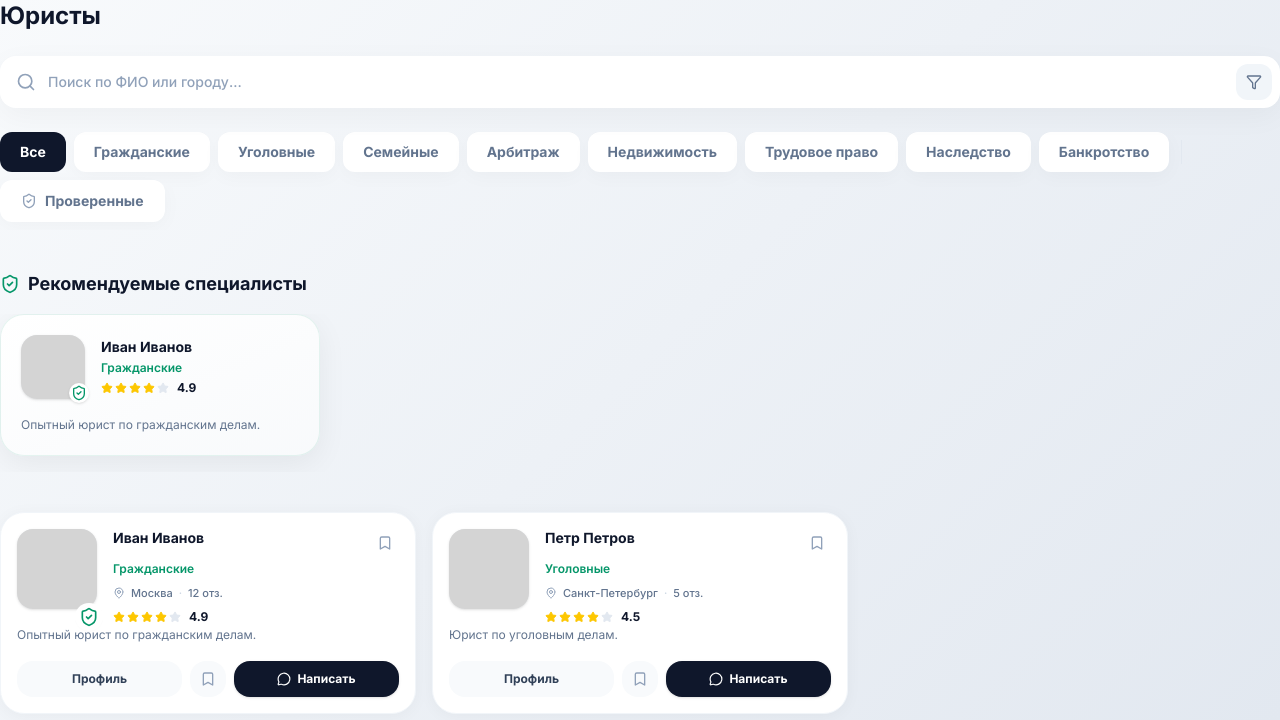
Test: Lawyers page › filters lawyers by search query
The width and height of the screenshot is (1280, 720).
Expected: the heading "Иван Иванов" below "Рекомендуемые специалисты" is shown, [101,338,192,355]
Type "Петр" into the field with placeholder "Поиск по ФИО или городу..." at [640, 82], box [0,56,1279,108]
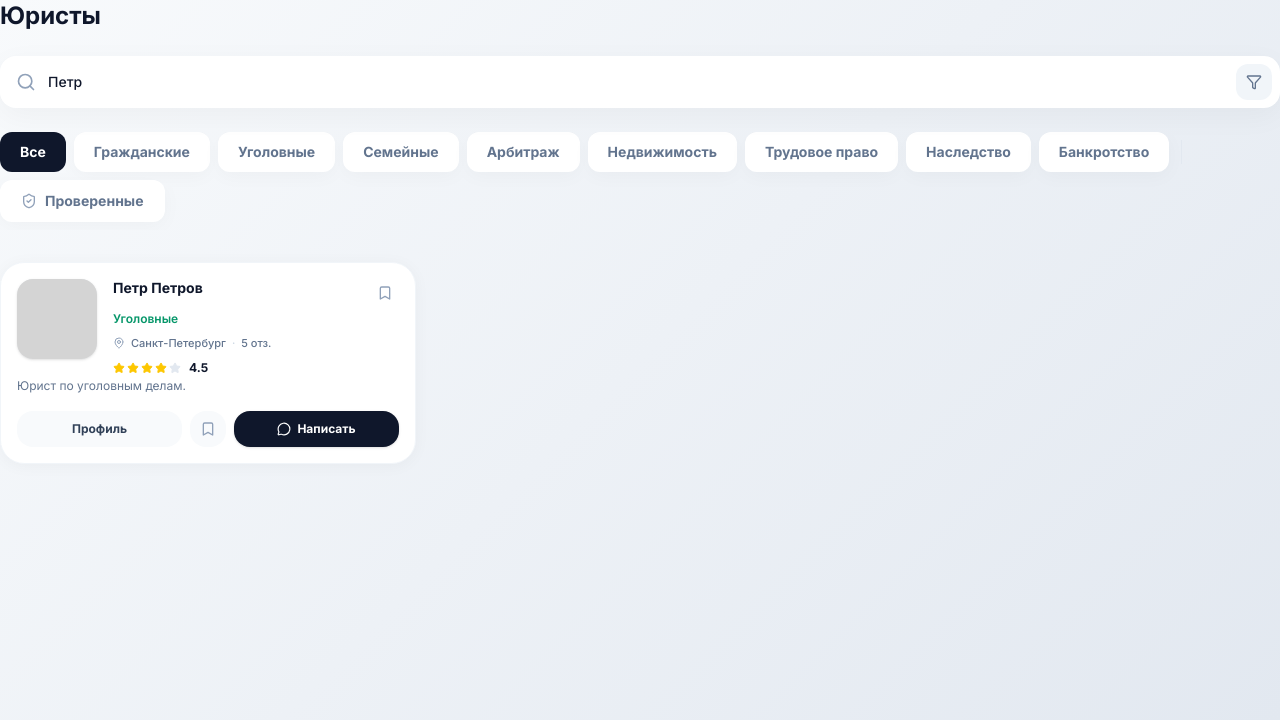
Expected: the heading "Петр Петров" is shown, [113,279,203,296]
Now the heading "Иван Иванов" is gone
